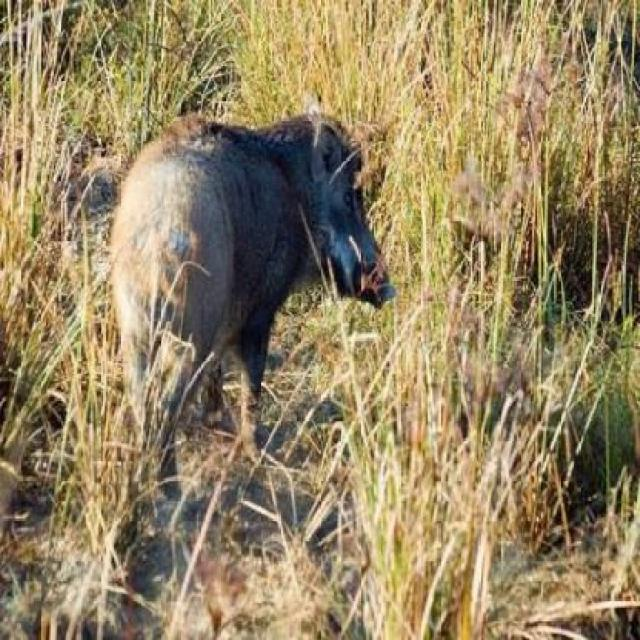pig: (78, 112, 417, 470)
